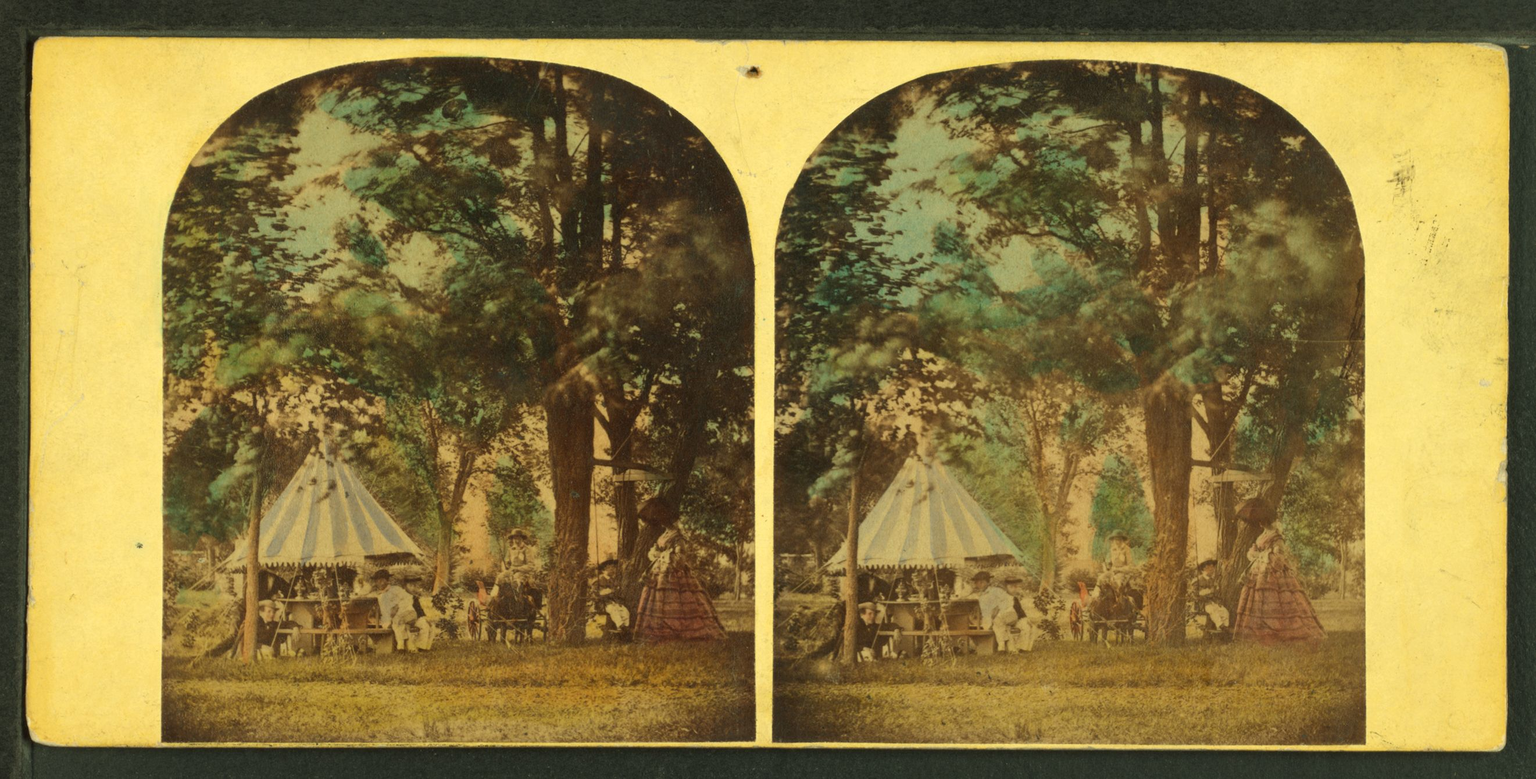half_image: (162, 54, 756, 741), (773, 59, 1366, 743)
